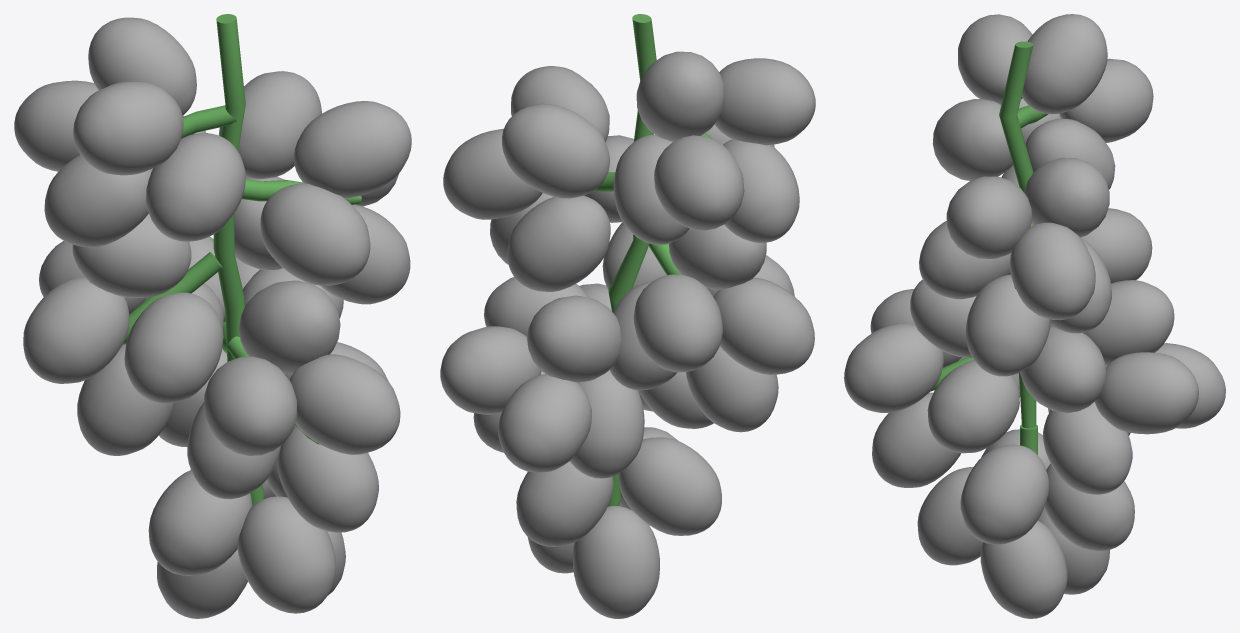
Rendered from TM_Grapes_01.fbx.
3 renders of one model, left to right at view 1: azimuth 30°, elevation 25°; view 2: azimuth 150°, elevation 25°; view 3: azimuth 270°, elevation 25°, orthographic. The views are drawn at different scales.
Visible parts, largest first — view 1: klase; view 2: klase; view 3: klase.
Part boxes in pixels (x1,y1,x2,y2): klase: [14, 14, 411, 618]; klase: [440, 14, 815, 618]; klase: [844, 14, 1225, 618].
Bounding box in the file's own units: 9.3 × 14.59 × 9.21.
